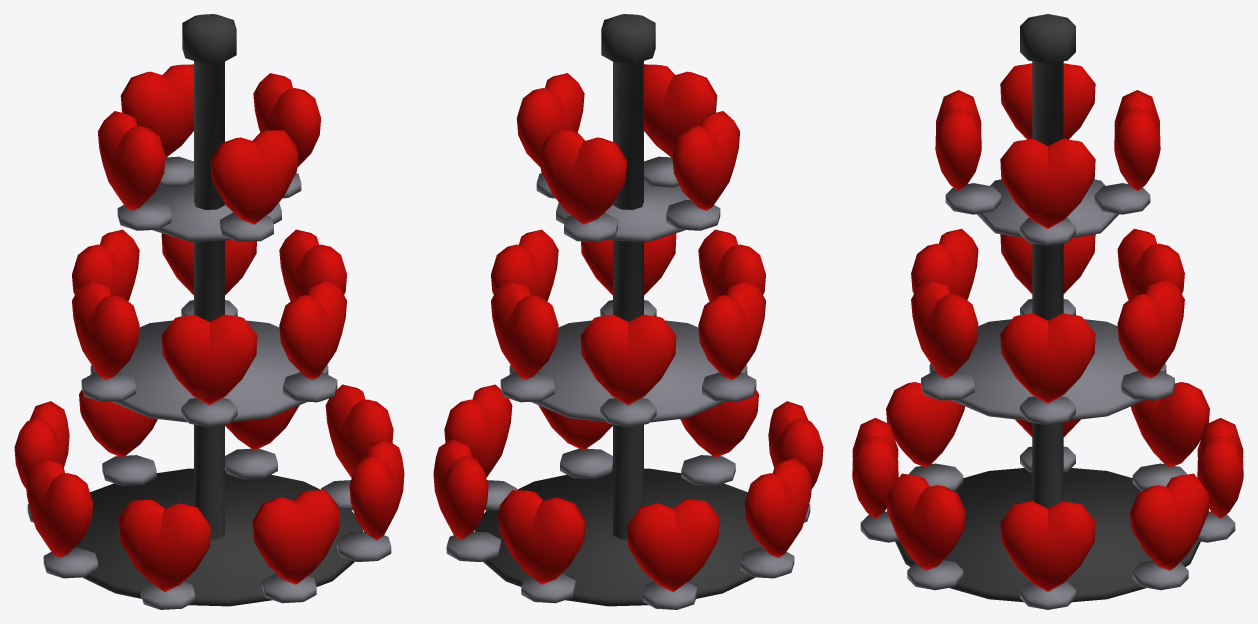
File: GB_075_health.glb
3 renders of one model, left to right at view 1: azimuth 30°, elevation 25°; view 2: azimuth 150°, elevation 25°; view 3: azimuth 270°, elevation 25°, orthographic.
Parts seen in each view (by area): view 1: Holder_LIfe, Heart.008, Heart.005, Heart.015, Heart.006, Heart.013, Heart.009, Heart.004, Heart.016, Heart.017, Heart.007, Heart (+7 smaller); view 2: Holder_LIfe, Heart.010, Heart.003, Heart.017, Heart.002, Heart.004, Heart.011, Heart.009, Heart.016, Heart.015, Heart.001, Heart (+7 smaller); view 3: Holder_LIfe, Heart, Heart.014, Heart.012, Heart.001, Heart.007, Heart.013, Heart.011, Heart.003, Heart.005, Heart.016, Heart.015 (+6 smaller).
Boxes of the visible parts, x1,y1,x2,y2 form: Holder_LIfe: (27, 14, 391, 609); Heart.008: (161, 314, 257, 405); Heart.005: (118, 499, 210, 591); Heart.015: (210, 130, 298, 224); Heart.006: (252, 490, 339, 584); Heart.013: (279, 280, 346, 379); Heart.009: (72, 280, 139, 379); Heart.004: (25, 458, 93, 557); Heart.016: (98, 111, 165, 210); Heart.017: (120, 64, 193, 157); Heart.007: (349, 439, 404, 540); Heart: (325, 384, 393, 477); Holder_LIfe: (446, 14, 810, 609); Heart.010: (580, 314, 676, 405); Heart.003: (627, 499, 719, 592); Heart.017: (539, 130, 627, 224); Heart.002: (498, 490, 585, 584); Heart.004: (744, 458, 812, 557); Heart.011: (491, 280, 558, 379); Heart.009: (698, 280, 765, 379); Heart.016: (672, 111, 740, 210); Heart.015: (644, 64, 717, 157); Heart.001: (433, 439, 488, 540); Heart: (444, 384, 512, 477); Holder_LIfe: (860, 14, 1235, 609); Heart: (1000, 501, 1095, 591); Heart.014: (1000, 138, 1095, 228); Heart.012: (1000, 313, 1095, 403); Heart.001: (1130, 473, 1209, 570); Heart.007: (886, 473, 965, 570); Heart.013: (911, 279, 978, 378); Heart.011: (1117, 279, 1184, 378); Heart.003: (1131, 382, 1209, 467); Heart.005: (886, 382, 964, 467); Heart.016: (1000, 63, 1095, 139); Heart.015: (935, 90, 981, 191).
Size of the model in its own units: 0.7859 by 1.15 by 0.7857.
